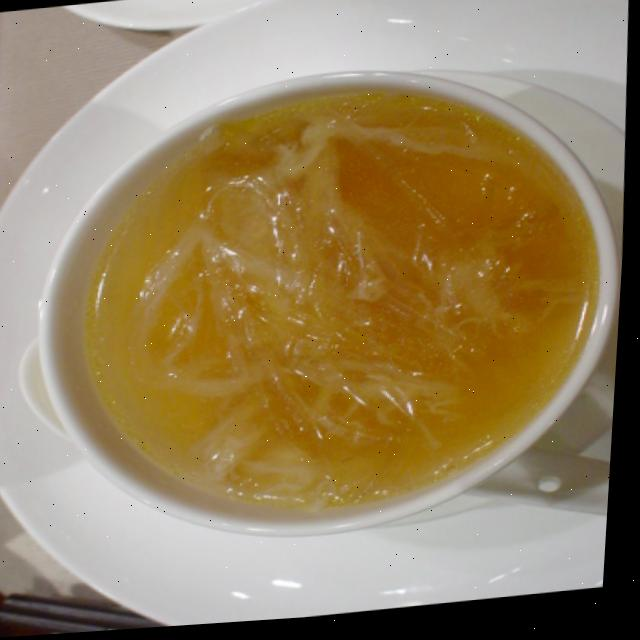汤锅炖物: (6, 35, 637, 574)
